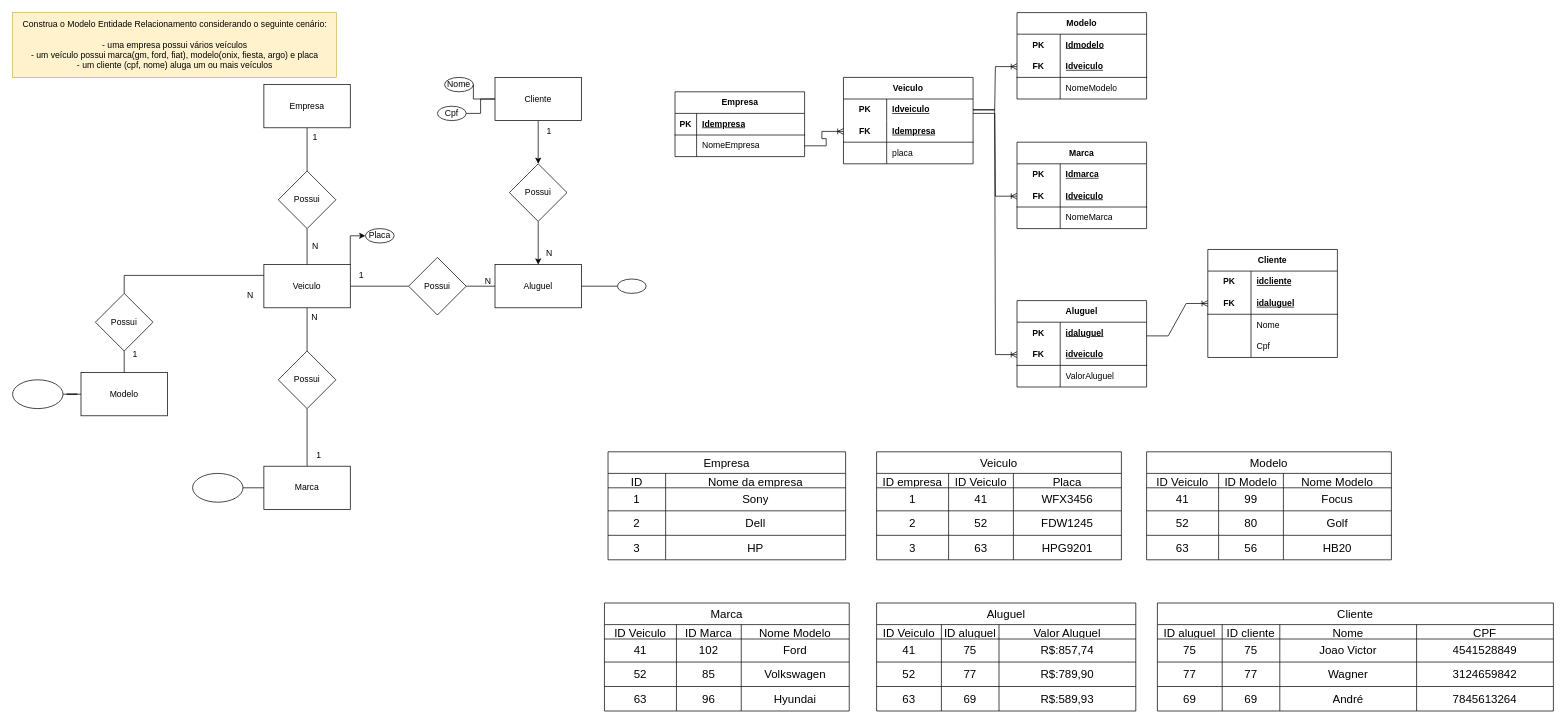
Some shapes in this 1566 by 724 pixel diagram are drawn without their labels. The shapes that lost their labels are listed below. From the top down, each one's box as (x1, y1, x2, y2) in pixels, then its label:
(617, 278, 646, 293): Valor
(12, 379, 63, 409): Nome do Modelo
(192, 473, 243, 502): Nome da Marca
